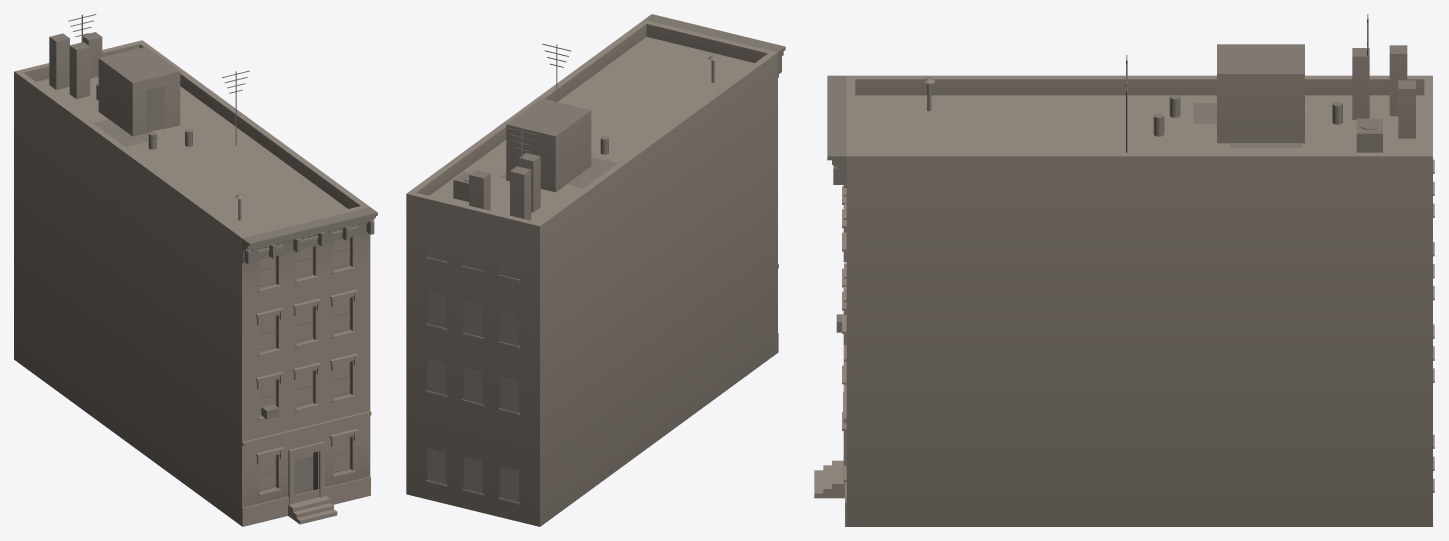
Rendered from rowhouse_a.glb.
3 views of the same model, side by side, from view 1: azimuth 30°, elevation 25°; view 2: azimuth 150°, elevation 25°; view 3: azimuth 270°, elevation 25° (orthographic). The views are drawn at different scales.
Visible parts, largest first — view 1: rowhouse_a; view 2: rowhouse_a; view 3: rowhouse_a.
Boxes of the visible parts, x1,y1,x2,y2 form: rowhouse_a: (14,14,377,526); rowhouse_a: (406,14,785,526); rowhouse_a: (814,14,1434,526).
Bounding box in the file's own units: 6.5 × 17.08 × 21.15.
